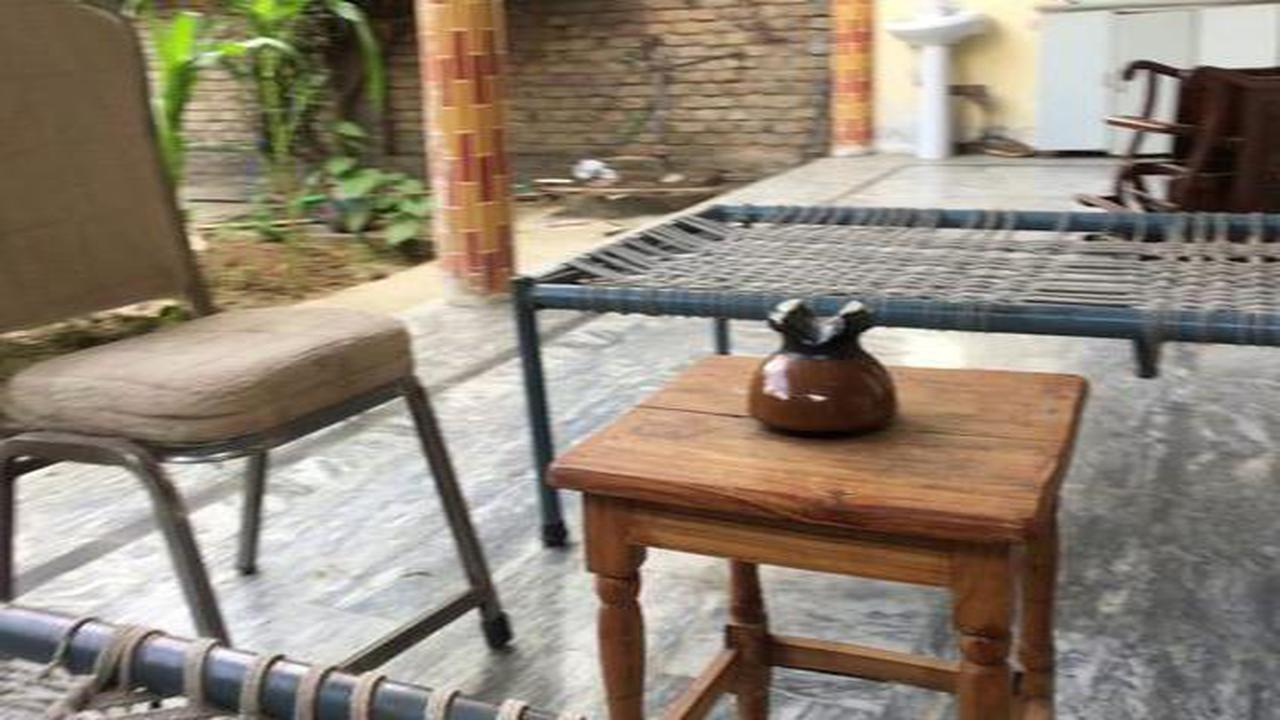insulator_pin: (730, 279, 921, 451)
